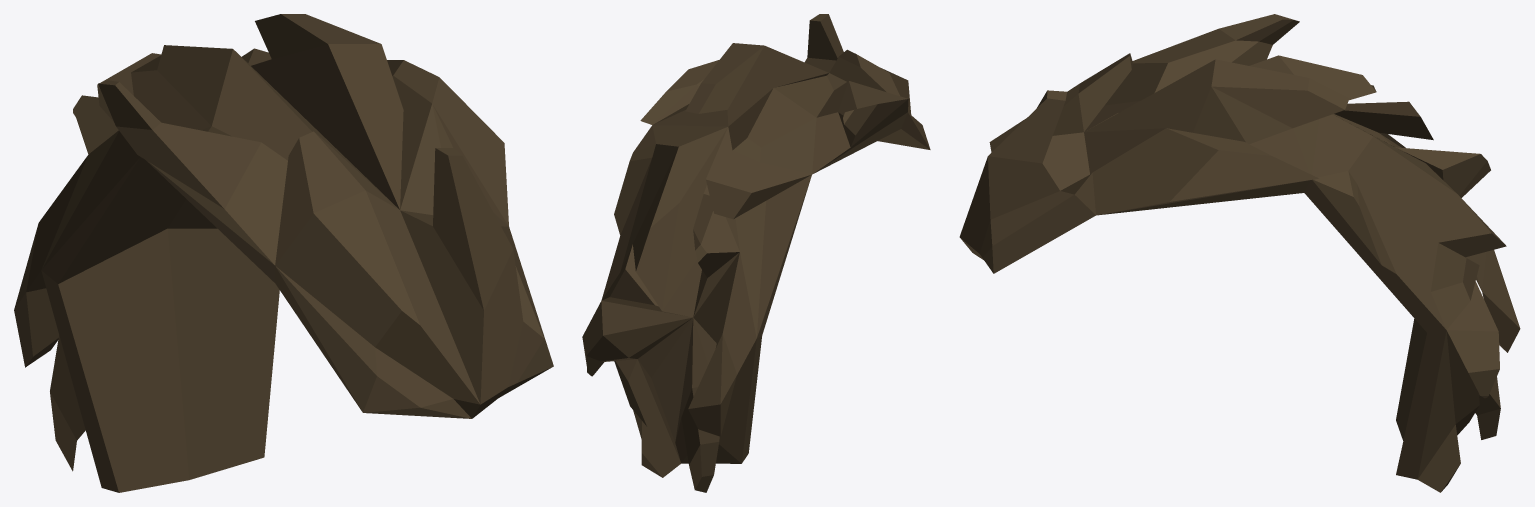
File: SM_Chr_Attach_Hair_01.fbx
3 views of the same model, side by side, from view 1: azimuth 30°, elevation 25°; view 2: azimuth 150°, elevation 25°; view 3: azimuth 270°, elevation 25° (orthographic). The views are drawn at different scales.
Visible parts, largest first — view 1: SM_Chr_Attach_Hair_01; view 2: SM_Chr_Attach_Hair_01; view 3: SM_Chr_Attach_Hair_01.
Part boxes in pixels (x1,y1,x2,y2): SM_Chr_Attach_Hair_01: (14, 14, 553, 492); SM_Chr_Attach_Hair_01: (582, 14, 930, 492); SM_Chr_Attach_Hair_01: (959, 14, 1520, 492).
Size of the model in its own units: 14.95 by 24.29 by 29.15.
